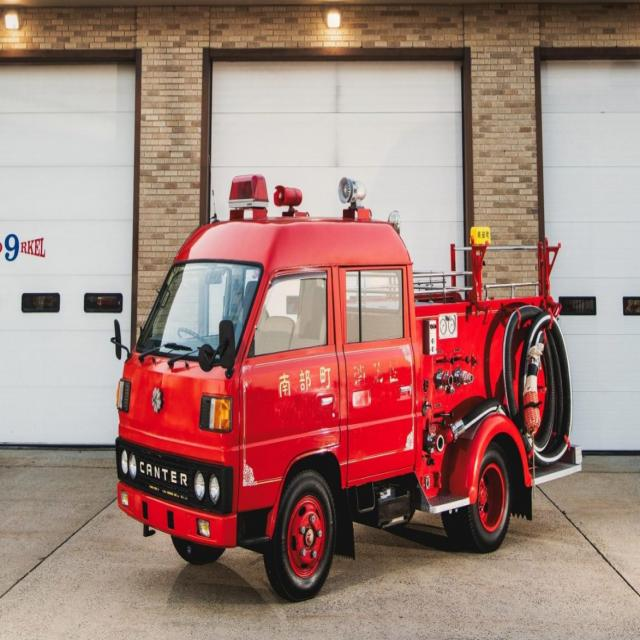Truck: (114, 215, 586, 594)
